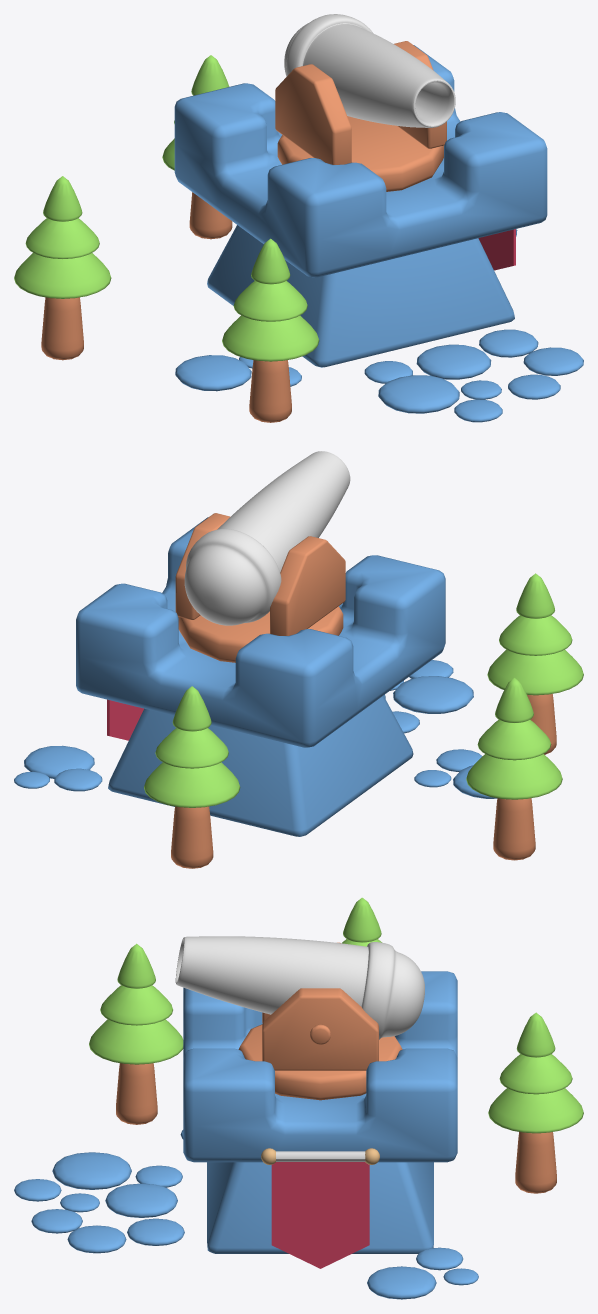
Rendered from canon.gltf.
The picture shows the model from 3 angles, top to bottom: view 1: azimuth 30°, elevation 25°; view 2: azimuth 150°, elevation 25°; view 3: azimuth 270°, elevation 25°; orthographic projection.
Visible parts, largest first — view 1: Plane, Cylinder.001, Circle.002, Circle.001, Plane.001, Circle, Circle.003, Plane.008, Plane.016, Plane.004, Plane.009, Plane.005 (+5 smaller); view 2: Plane, Cylinder.001, Circle.002, Circle.003, Circle.001, Plane.001, Circle, Plane.008, Plane.013, Plane.002, Plane.011, Plane.014; view 3: Plane, Cylinder.001, Plane.002, Circle.003, Circle.001, Plane.001, Circle, Plane.008, Plane.004, Plane.013, Plane.009, Circle.002 (+7 smaller).
Boxes of the visible parts, bbox=[...] form: Plane: bbox=[174, 45, 547, 367]; Cylinder.001: bbox=[284, 14, 455, 127]; Circle.002: bbox=[14, 176, 111, 360]; Circle.001: bbox=[222, 238, 319, 422]; Plane.001: bbox=[275, 41, 446, 164]; Circle: bbox=[277, 116, 443, 191]; Circle.003: bbox=[162, 55, 232, 239]; Plane.008: bbox=[378, 375, 459, 413]; Plane.016: bbox=[175, 355, 251, 391]; Plane.004: bbox=[416, 344, 491, 379]; Plane.009: bbox=[523, 347, 583, 375]; Plane.005: bbox=[479, 329, 538, 357]; Plane: bbox=[76, 517, 445, 836]; Cylinder.001: bbox=[184, 451, 350, 625]; Circle.002: bbox=[466, 678, 562, 860]; Circle.003: bbox=[144, 686, 240, 868]; Circle.001: bbox=[487, 573, 583, 754]; Plane.001: bbox=[175, 513, 345, 635]; Circle: bbox=[178, 606, 343, 662]; Plane.008: bbox=[393, 676, 473, 713]; Plane.013: bbox=[24, 745, 94, 778]; Plane.002: bbox=[107, 699, 143, 740]; Plane.011: bbox=[54, 768, 102, 791]; Plane.014: bbox=[436, 749, 482, 771]; Plane: bbox=[183, 971, 457, 1253]; Cylinder.001: bbox=[175, 936, 424, 1039]; Plane.002: bbox=[271, 1162, 369, 1268]; Circle.003: bbox=[488, 1012, 583, 1193]; Circle.001: bbox=[89, 943, 183, 1124]; Plane.001: bbox=[262, 942, 378, 1070]; Circle: bbox=[238, 1024, 402, 1100]; Plane.008: bbox=[52, 1152, 131, 1189]; Plane.004: bbox=[105, 1183, 177, 1217]; Plane.013: bbox=[367, 1266, 436, 1299]; Plane.009: bbox=[67, 1225, 126, 1253]; Circle.002: bbox=[342, 897, 381, 946].
Size of what is drawn, in the model's own units: 9.96 by 5.19 by 9.77.
